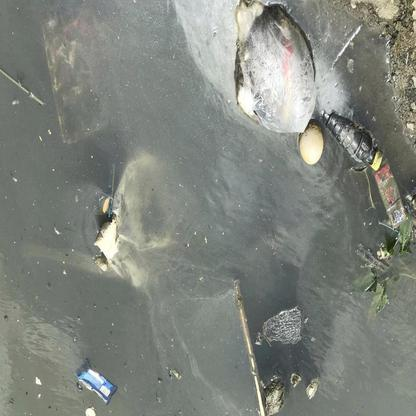plastic bag: (75, 363, 118, 405)
plastic bottle: (321, 102, 383, 171)
